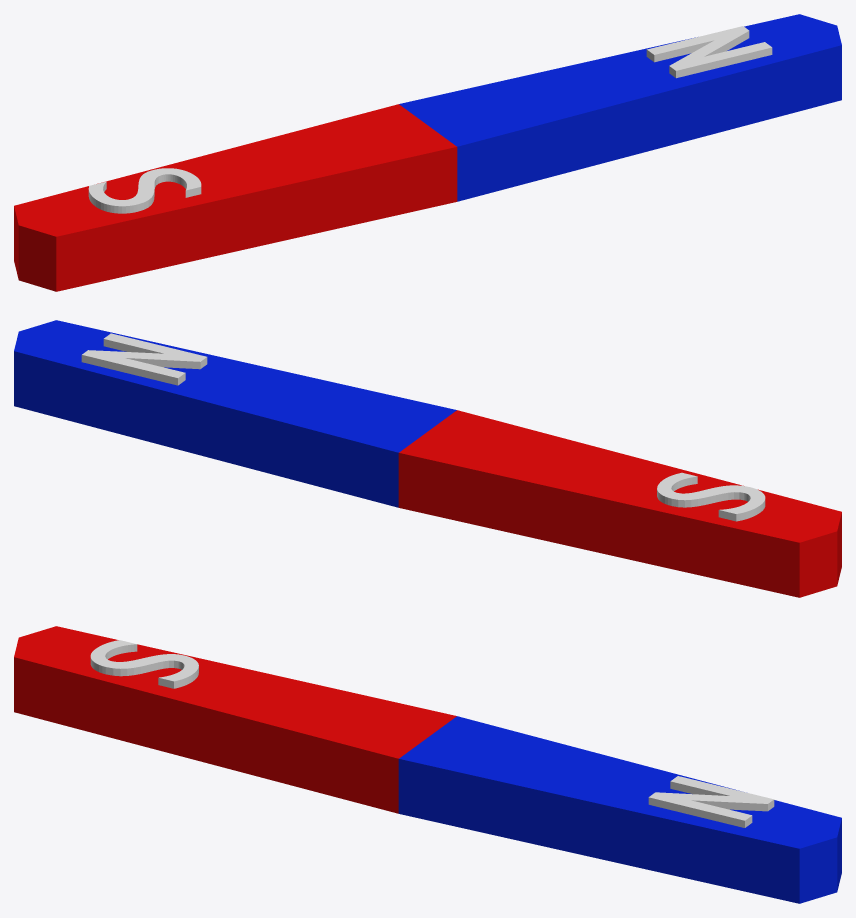
Rendered from Магнит1 (2).fbx.
3 views of the same model, one above another, from view 1: azimuth 30°, elevation 25°; view 2: azimuth 150°, elevation 25°; view 3: azimuth 330°, elevation 25° (orthographic).
Visible parts, largest first — view 1: Plane, Text, Text.001; view 2: Plane, Text, Text.001; view 3: Plane, Text, Text.001.
Boxes of the visible parts, x1=… form: Plane: x1=14, y1=14, x2=841, y2=291; Text: x1=646, y1=26, x2=772, y2=78; Text.001: x1=88, y1=168, x2=201, y2=213; Plane: x1=14, y1=320, x2=841, y2=597; Text: x1=81, y1=333, x2=207, y2=385; Text.001: x1=657, y1=472, x2=765, y2=521; Plane: x1=14, y1=626, x2=841, y2=903; Text: x1=648, y1=776, x2=774, y2=827; Text.001: x1=90, y1=640, x2=198, y2=688.
Size of the model in its own units: 116 by 8.45 by 14.31.
